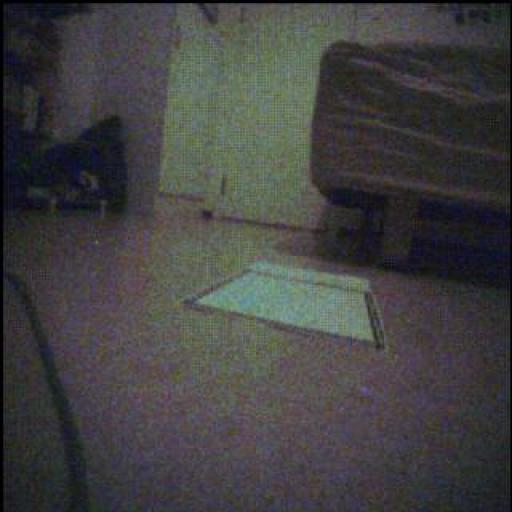pad: (187, 262, 387, 350)
